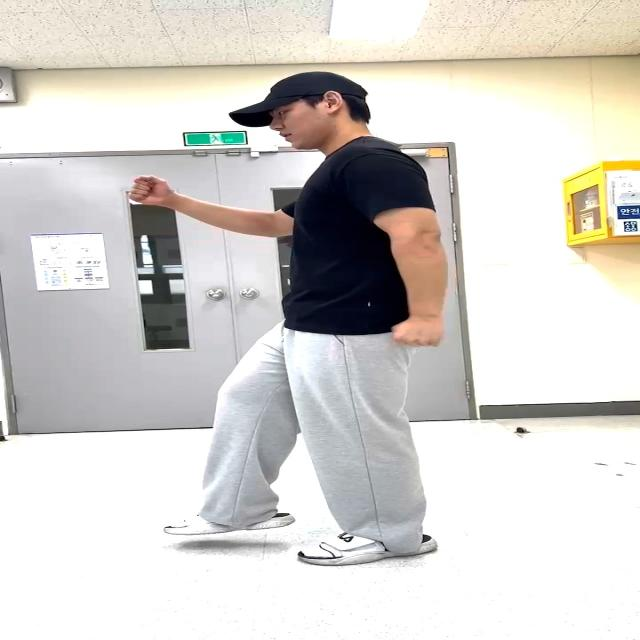leg: (168, 332, 284, 528)
